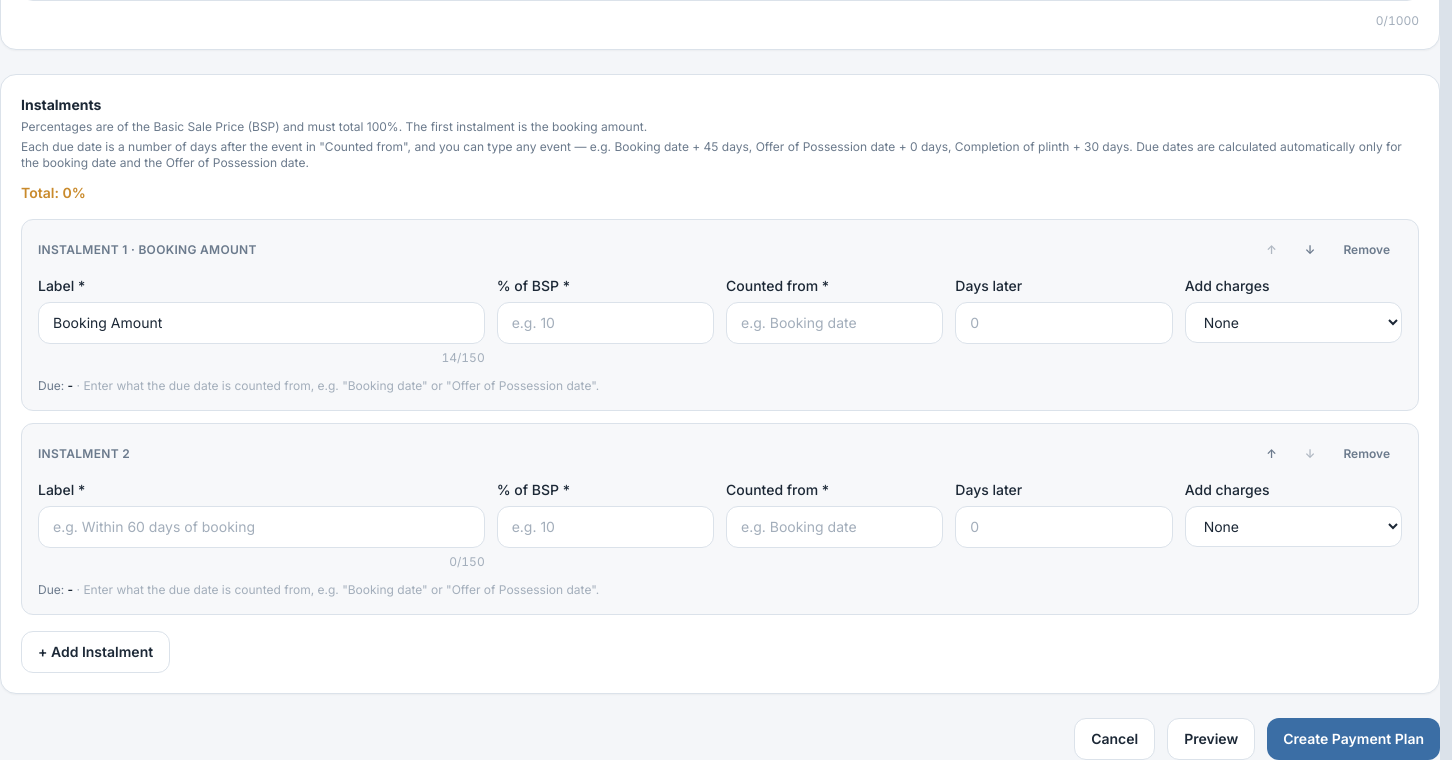
NewPaymentPlanPage layout › shows the due wording and whether a date is calculated, live as the admin types
(page scrolled)
expect the 2nd text "-" is shown: met, box [68, 582, 73, 597]
In the 2nd field labelled "Counted from *": (835, 527) [726, 506, 943, 548], type "Completion of plinth"
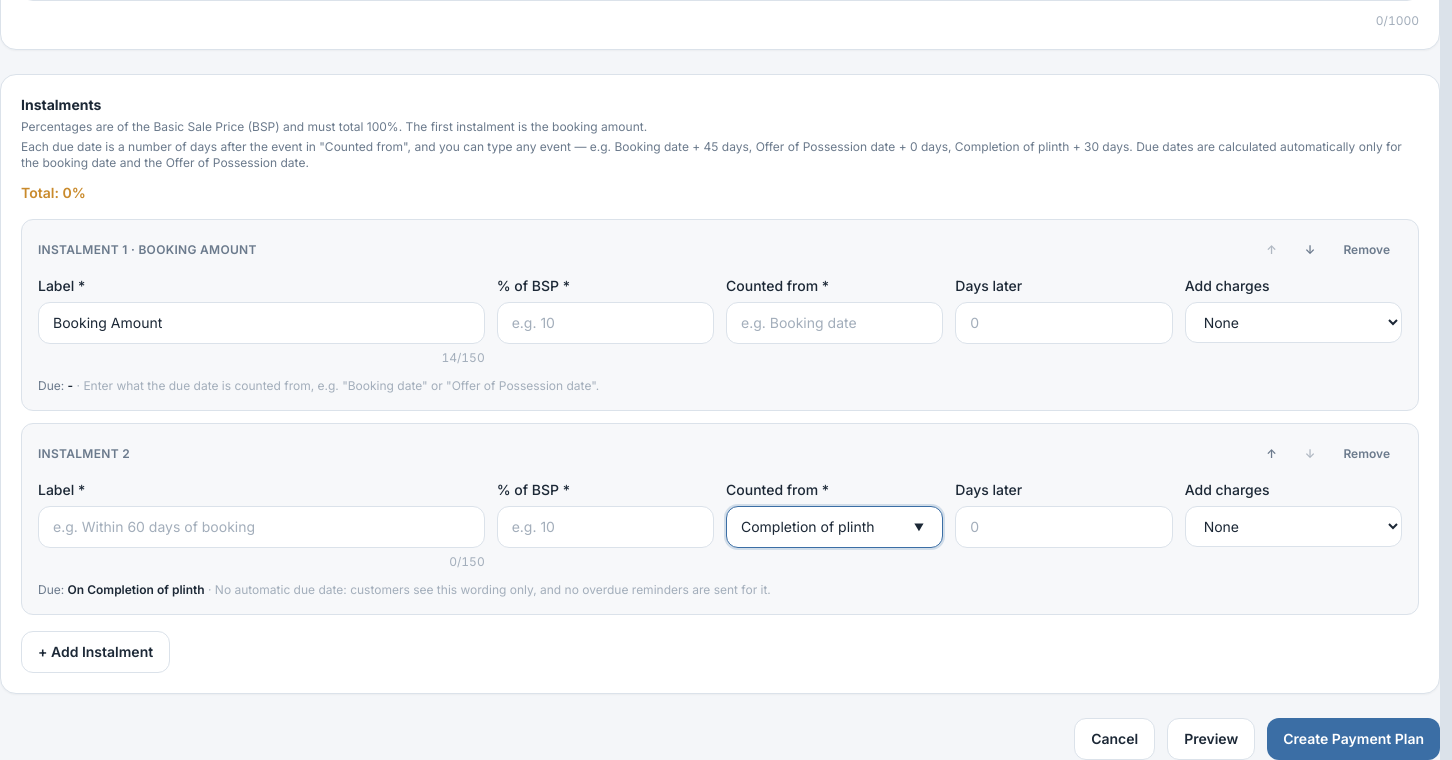
In the 2nd field labelled "Days later": (1064, 527) [955, 506, 1173, 548], type "30"
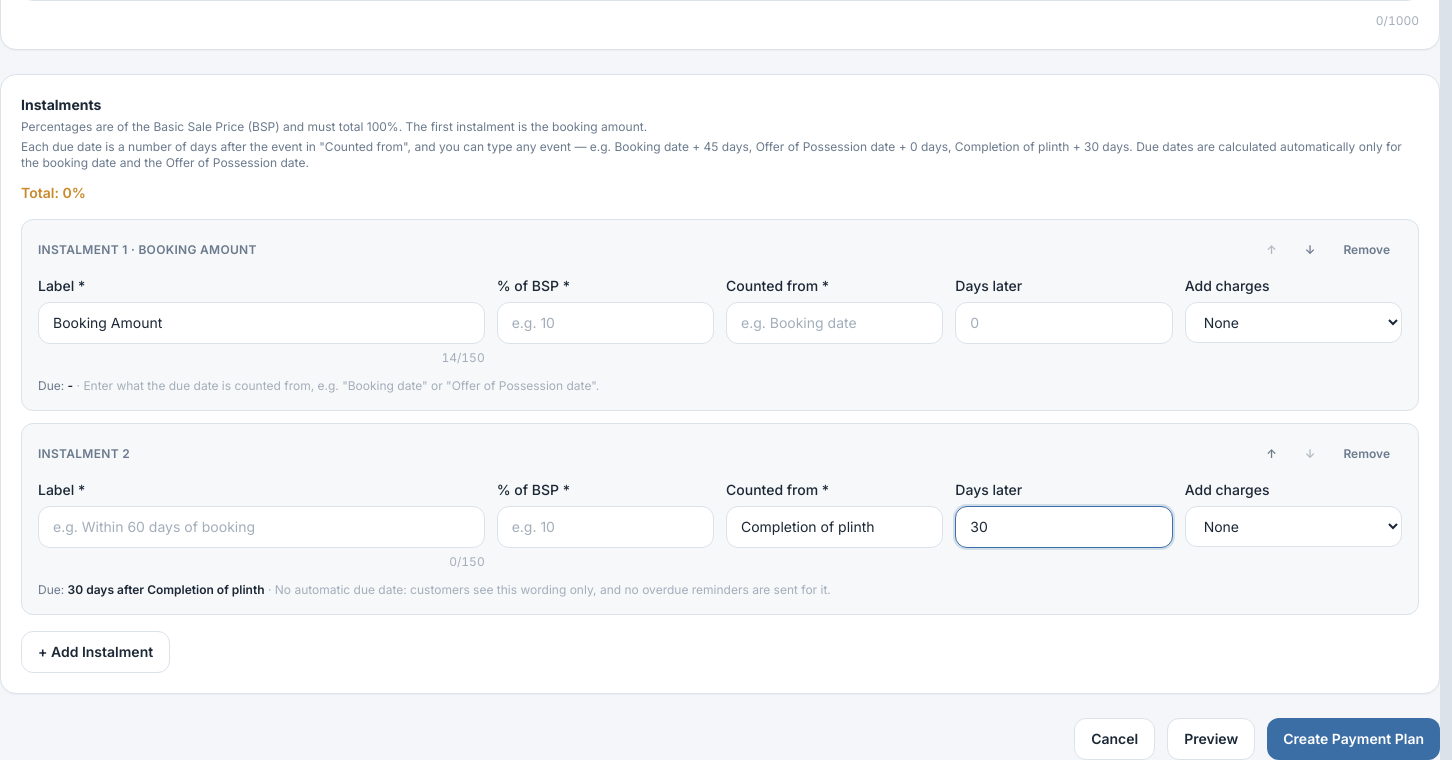
expect the text "No automatic due date" is shown: met, box [275, 582, 831, 597]
expect the text "30 days after Completion of plinth" is shown: met, box [68, 582, 265, 597]
Replace the text in the 2nd field labelled "Counted from *" with "Booking date": (835, 527) [726, 506, 943, 548]
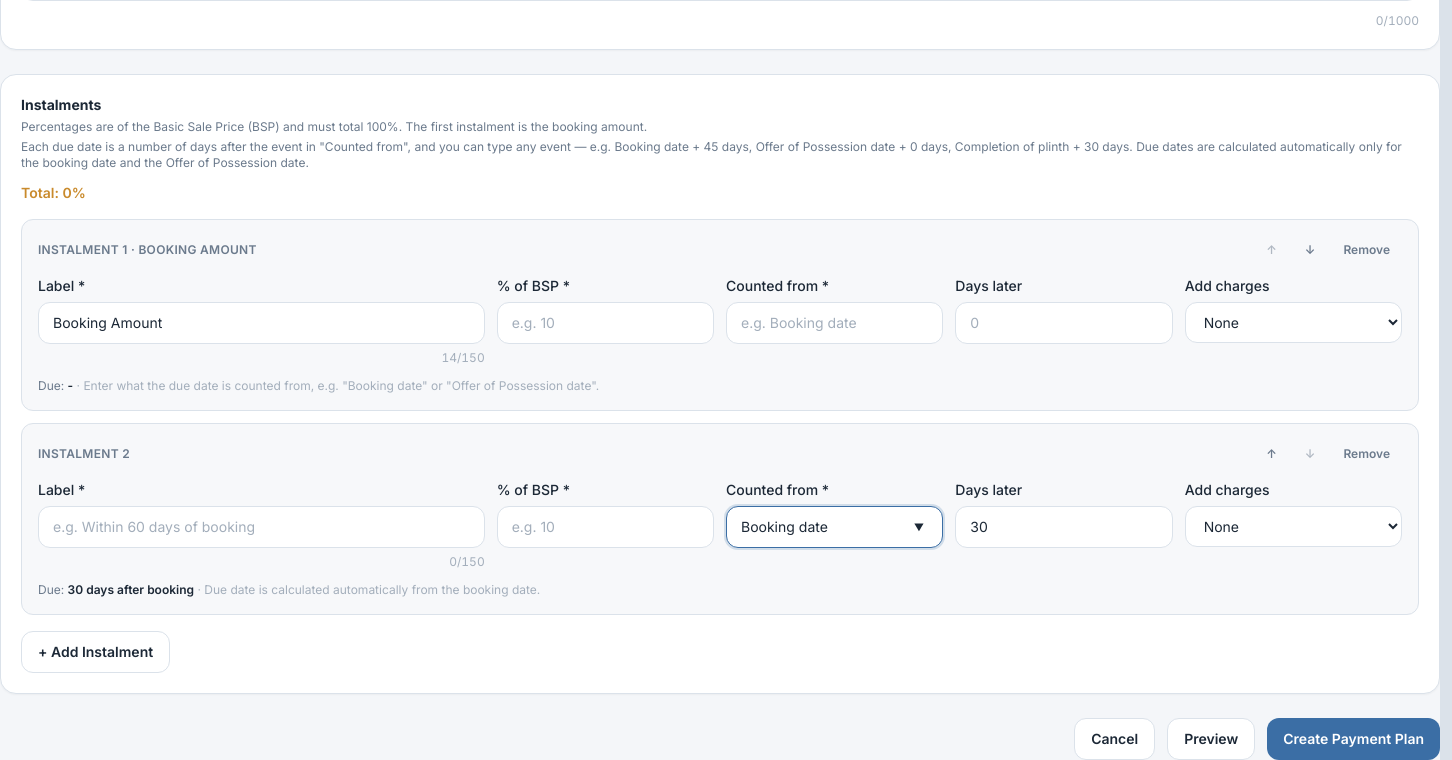
expect the text "30 days after booking" is shown: met, box [68, 582, 194, 597]
expect the text "calculated automatically from the booking date" is shown: met, box [204, 582, 540, 597]
